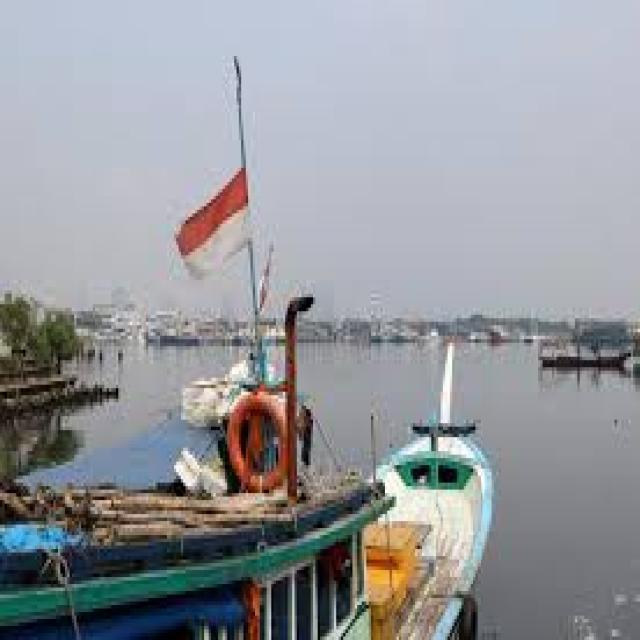fishing boat: (4, 334, 514, 627)
